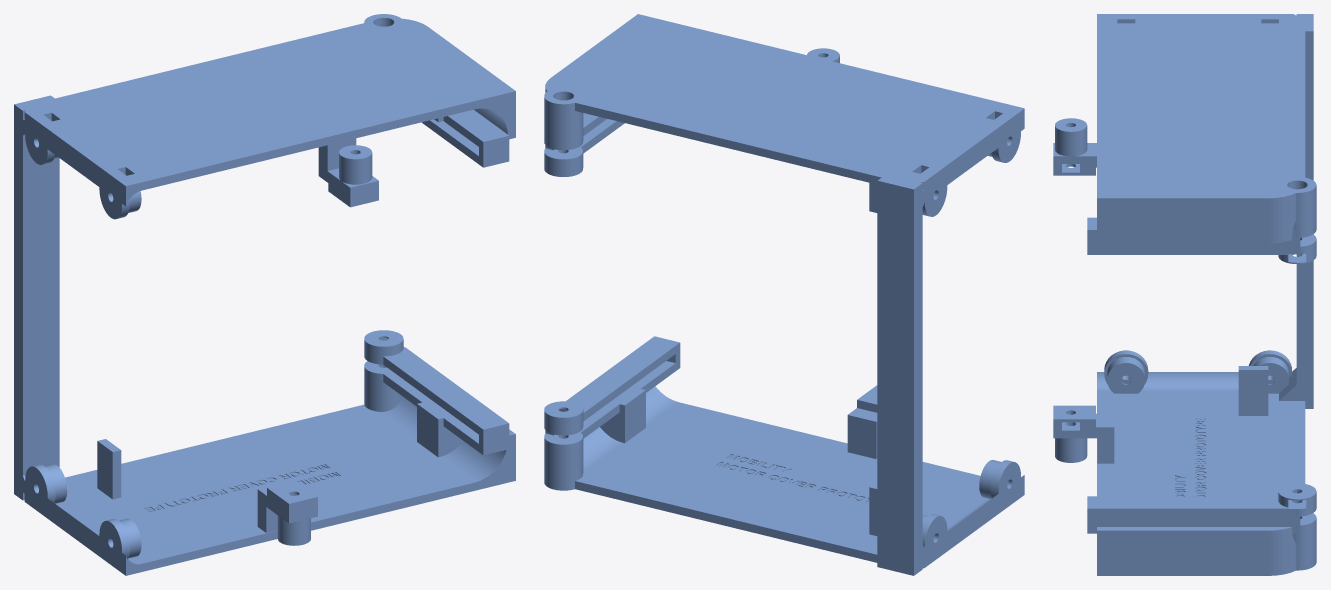
Rendered from Base___F_fit___inside_labels.gltf.
The picture shows the model from 3 angles, left to right: view 1: azimuth 30°, elevation 25°; view 2: azimuth 150°, elevation 25°; view 3: azimuth 270°, elevation 25°; orthographic projection. The views are drawn at different scales.
Parts seen in each view (by area): view 1: mesh54108, mesh54131, mesh53997, mesh54119, mesh54003, mesh54055, mesh54068, mesh54060, mesh54069, mesh54072, mesh54080, mesh54011 (+9 smaller); view 2: mesh54108, mesh54131, mesh54040, mesh54119, mesh53987, mesh54041, mesh54068, mesh54080, mesh54025, mesh54060, mesh54072, mesh54069 (+5 smaller); view 3: mesh54108, mesh54131, mesh54006, mesh54056, mesh54082, mesh54039, mesh54027, mesh54068, mesh54048, mesh54264, mesh54457, mesh54004 (+13 smaller).
Part boxes in pixels (<box>): mesh54108: <box>14,14,515,185</box>; mesh54131: <box>59,404,474,563</box>; mesh53997: <box>23,135,59,475</box>; mesh54119: <box>14,104,125,575</box>; mesh54003: <box>126,91,515,205</box>; mesh54055: <box>126,434,515,575</box>; mesh54068: <box>383,347,508,429</box>; mesh54060: <box>378,396,506,482</box>; mesh54069: <box>383,357,483,454</box>; mesh54072: <box>364,361,478,443</box>; mesh54080: <box>364,367,402,411</box>; mesh54011: <box>448,109,508,141</box>; mesh54108: <box>544,14,1024,189</box>; mesh54131: <box>576,402,987,554</box>; mesh54040: <box>877,180,913,575</box>; mesh54119: <box>914,109,1024,575</box>; mesh53987: <box>575,103,881,184</box>; mesh54041: <box>575,481,877,562</box>; mesh54068: <box>566,336,679,412</box>; mesh54080: <box>544,436,583,490</box>; mesh54025: <box>544,98,583,150</box>; mesh54060: <box>583,386,678,471</box>; mesh54072: <box>544,361,675,444</box>; mesh54069: <box>583,343,680,421</box>; mesh54108: <box>1097,14,1316,198</box>; mesh54131: <box>1097,391,1305,496</box>; mesh54006: <box>1097,198,1267,243</box>; mesh54056: <box>1097,530,1267,575</box>; mesh54082: <box>1087,508,1300,533</box>; mesh54039: <box>1279,31,1313,408</box>; mesh54027: <box>1087,230,1300,254</box>; mesh54068: <box>1087,496,1288,508</box>; mesh54048: <box>1141,372,1238,390</box>; mesh54264: <box>1238,370,1268,415</box>; mesh54457: <box>1053,419,1114,463</box>; mesh54004: <box>1268,193,1296,243</box>.
Size of the model in its own units: 0.1487 by 0.1419 by 0.0896.
